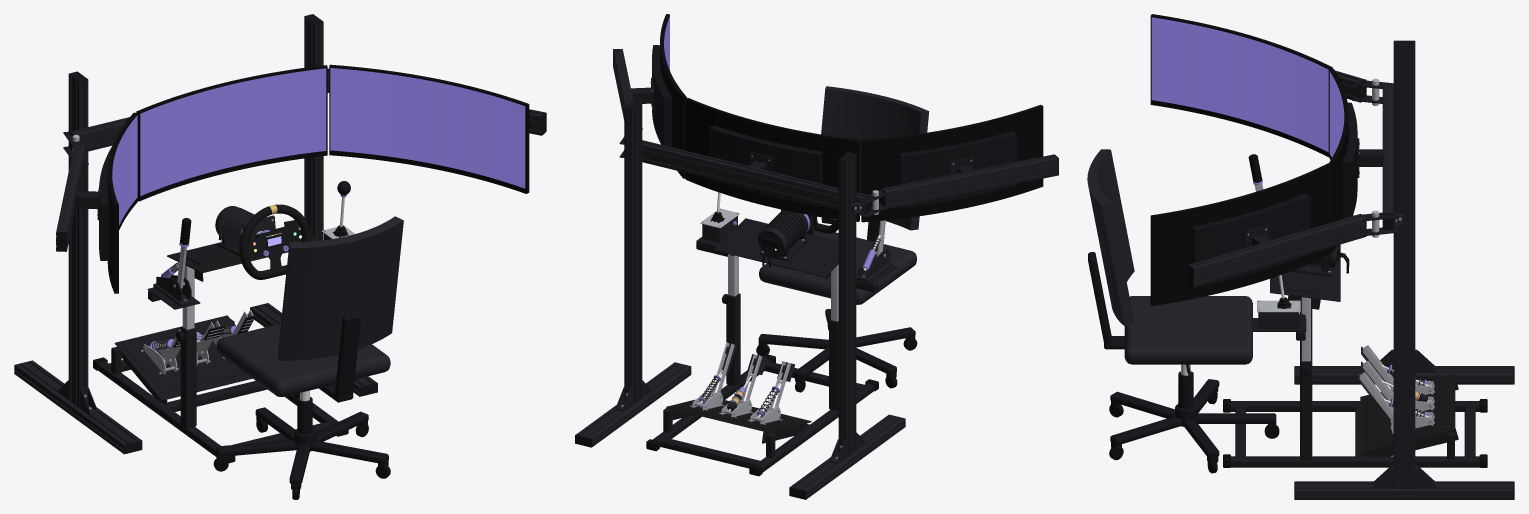
The model's file is proctor_rig_stand.glb.
The picture shows the model from 3 angles, left to right: view 1: azimuth 30°, elevation 25°; view 2: azimuth 150°, elevation 25°; view 3: azimuth 270°, elevation 25°; orthographic projection. The views are drawn at different scales.
Parts seen in each view (by area): view 1: slot_frame, monitors_side, slot_monitors, slot_pedals, slot_rim, frame_side, slot_wheelbase, slot_handbrake, slot_shifter; view 2: slot_frame, monitors_side, slot_monitors, frame_side, slot_pedals, slot_wheelbase, slot_handbrake, slot_shifter; view 3: slot_frame, monitors_side, frame_side, slot_pedals, slot_monitors, slot_shifter, slot_wheelbase.
Boxes of the visible parts, x1,y1,x2,y2 form: slot_frame: [14, 14, 403, 499]; monitors_side: [75, 64, 529, 293]; slot_monitors: [136, 65, 327, 201]; slot_pedals: [123, 310, 255, 393]; slot_rim: [239, 204, 310, 279]; frame_side: [56, 109, 546, 251]; slot_wheelbase: [215, 206, 275, 256]; slot_handbrake: [153, 218, 194, 306]; slot_shifter: [321, 181, 354, 240]; slot_frame: [575, 86, 929, 499]; monitors_side: [631, 14, 1043, 222]; slot_monitors: [685, 98, 859, 221]; frame_side: [613, 49, 1058, 217]; slot_pedals: [674, 342, 803, 429]; slot_wheelbase: [758, 210, 813, 267]; slot_handbrake: [856, 220, 892, 282]; slot_shifter: [700, 192, 739, 242]; slot_frame: [1087, 40, 1514, 499]; monitors_side: [1150, 14, 1332, 306]; frame_side: [1187, 70, 1398, 287]; slot_pedals: [1358, 345, 1446, 447]; slot_monitors: [1329, 69, 1382, 251]; slot_shifter: [1257, 275, 1300, 328]; slot_wheelbase: [1290, 245, 1349, 276].
Size of the model in its own units: 2.08 by 1.36 by 1.56.
